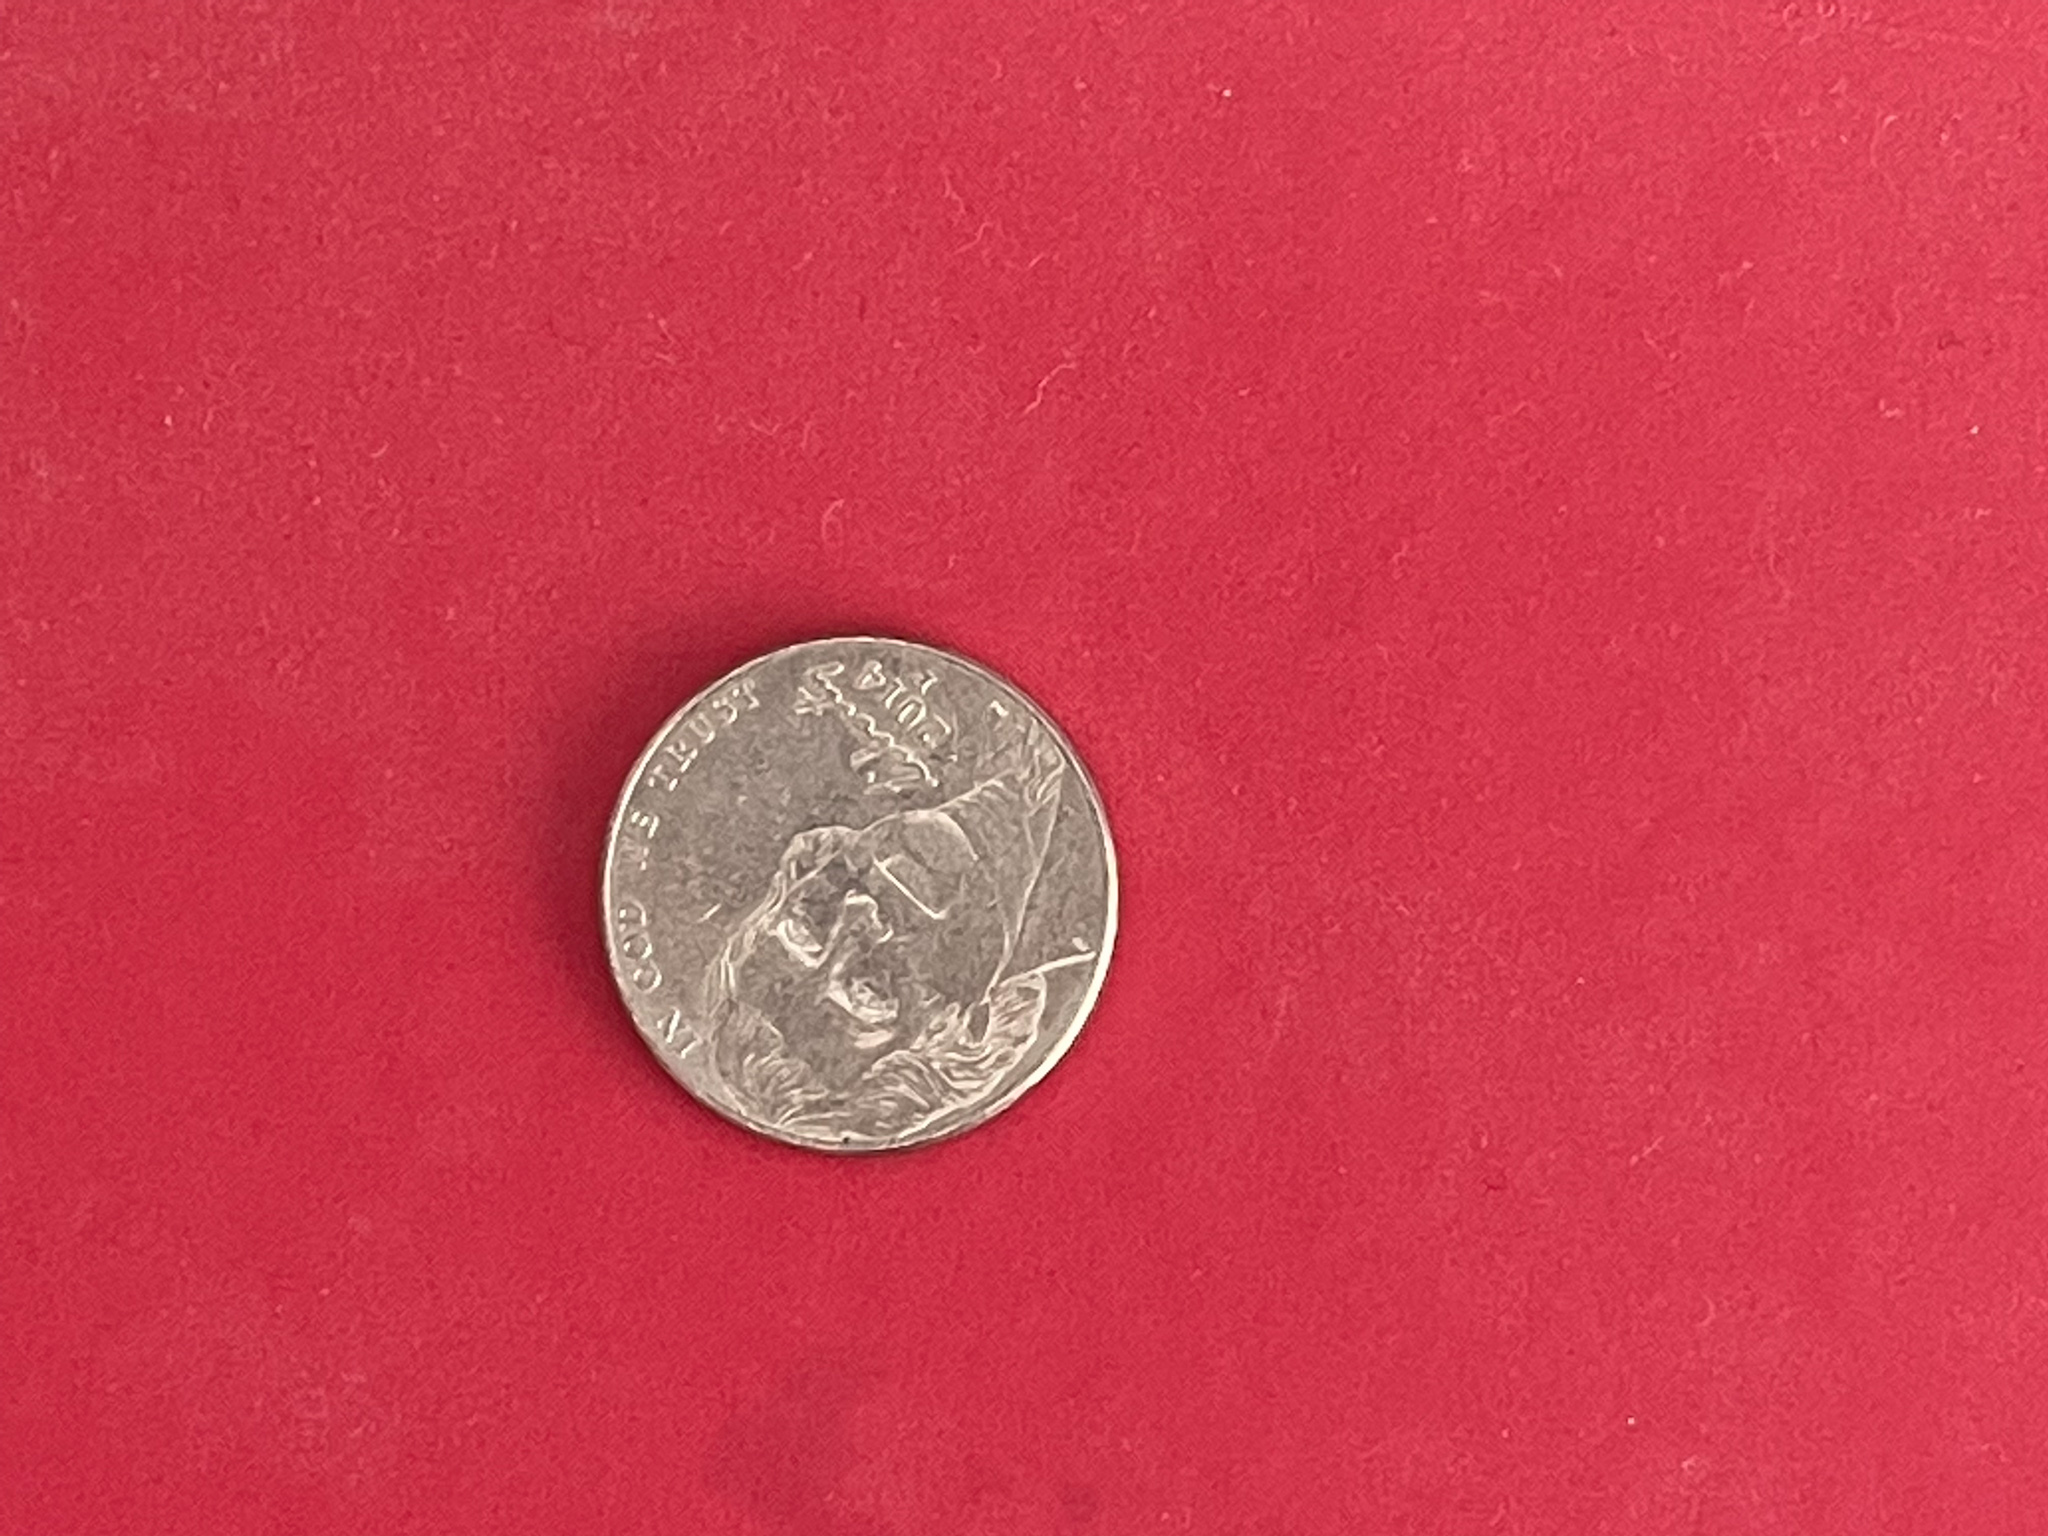nickel: (597, 632, 1130, 1158)
